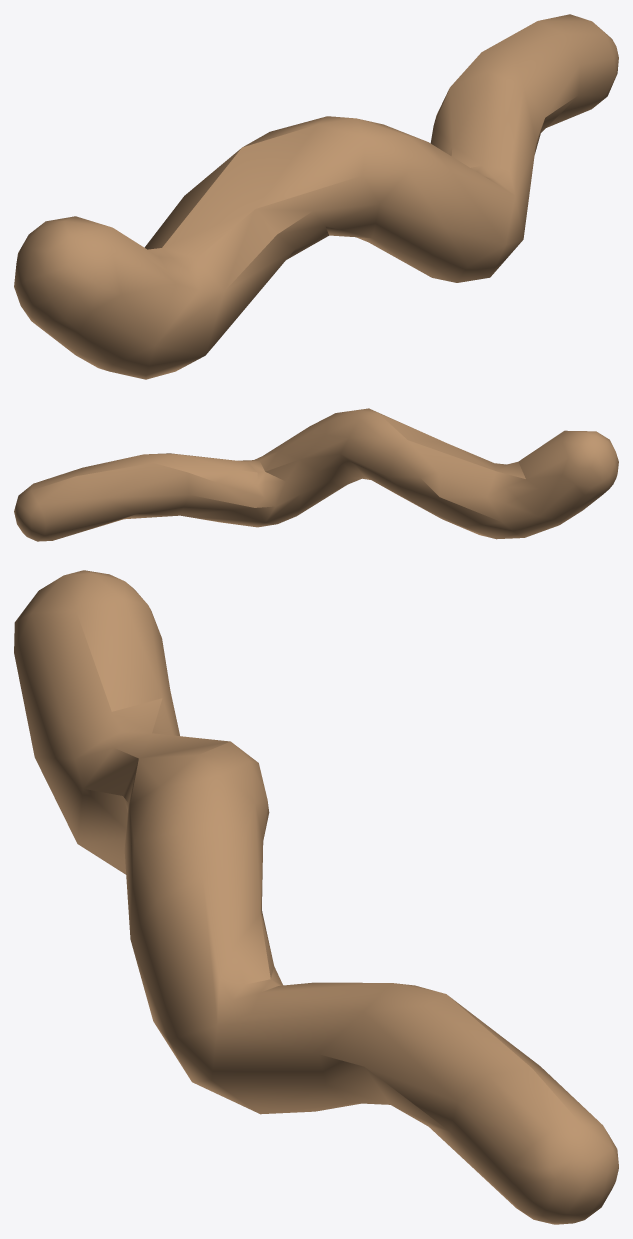
Rendered from appendix.glb.
3 renders of one model, top to bottom at view 1: azimuth 30°, elevation 25°; view 2: azimuth 150°, elevation 25°; view 3: azimuth 270°, elevation 25°, orthographic. The views are drawn at different scales.
Visible parts, largest first — view 1: appendix; view 2: appendix; view 3: appendix.
Boxes of the visible parts, x1,y1,x2,y2 form: appendix: [14, 14, 618, 379]; appendix: [14, 408, 618, 541]; appendix: [14, 570, 618, 1224].
Bounding box in the file's own units: 0.0696 × 0.0181 × 0.039.
